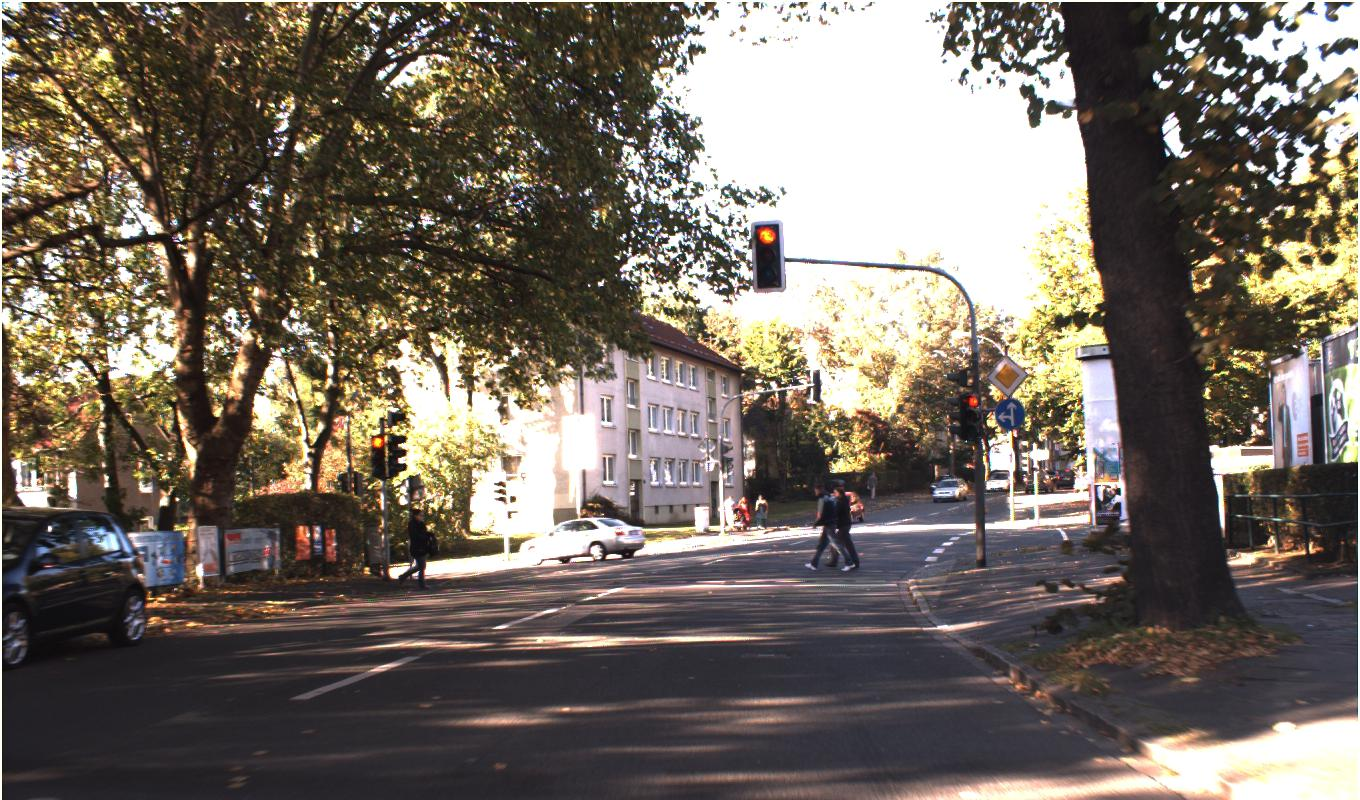mandatory: (993, 397, 1025, 430)
sign: (985, 354, 1028, 397)
